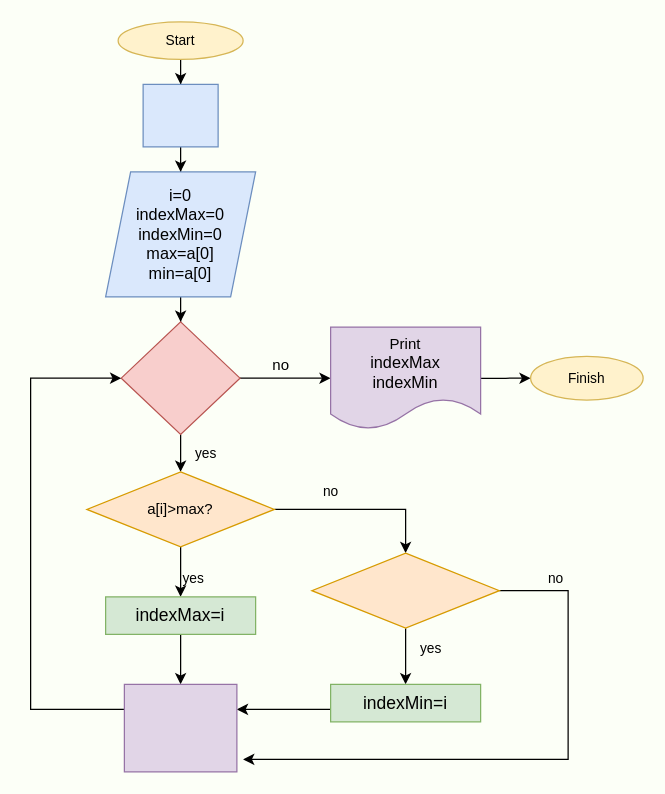
Image size: 665x794. Some labels were removed from this diagram. Here are the shapes that lost their labels. From the top down, the centre of each, then its label:
At point (180, 115): "a N".
At point (180, 377): "i<=N-1?".
At point (405, 590): "a[i]<min?".
At point (180, 727): "i=i+1".
